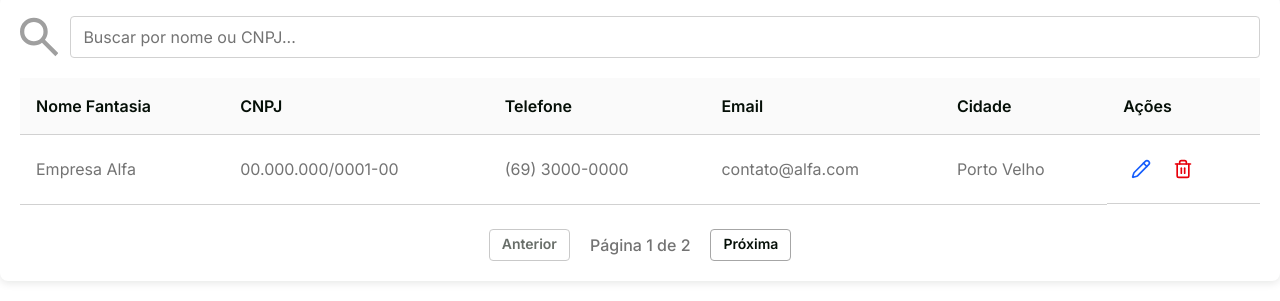
Test: TabelaRegistros › navega entre páginas com Anterior e Próxima respeitando os limites
Check: the table is shown, box [20,78,1260,204]
Check: the button "Anterior" is disabled, box [489,228,570,260]
Click the button "Próxima": x=751, y=244 [710,228,791,260]
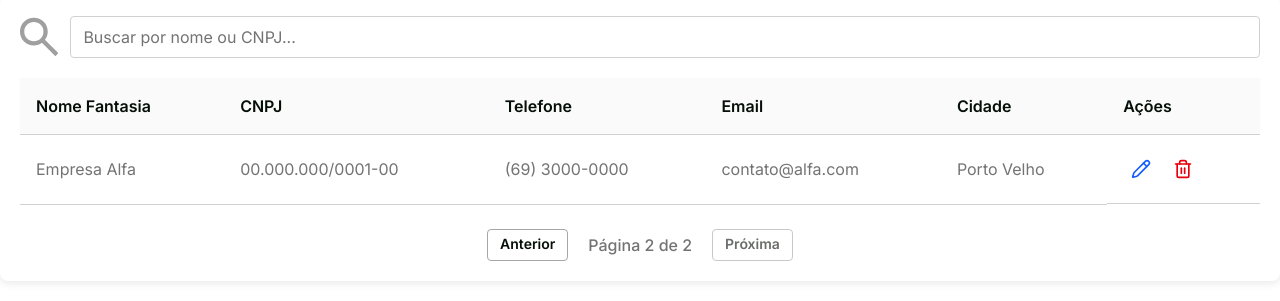
Check: the text "Página 2 de 2" is shown, box [588,232,692,256]
Check: the button "Próxima" is disabled, box [712,228,793,260]
Click the button "Anterior": x=528, y=244 [487,228,568,260]
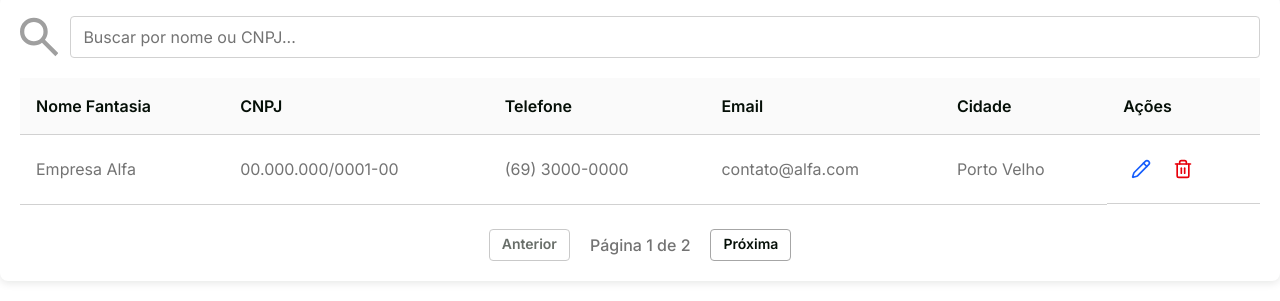
Check: the text "Página 1 de 2" is shown, box [590,232,690,256]
